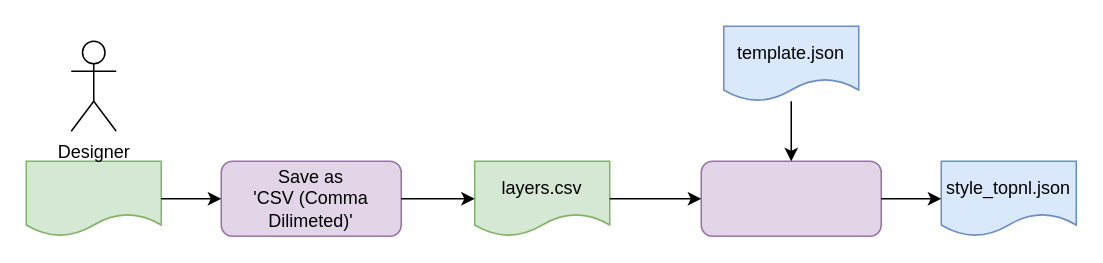
The diagram is 1103 pixels wide and 263 high, and some of its shapes have lost their labels. Here are the shapes that lost their labels. From the top down, the centre of each, then its label:
point (93, 198): layers.xlsx
point (790, 198): Insert layers (StyleConvert.java)
